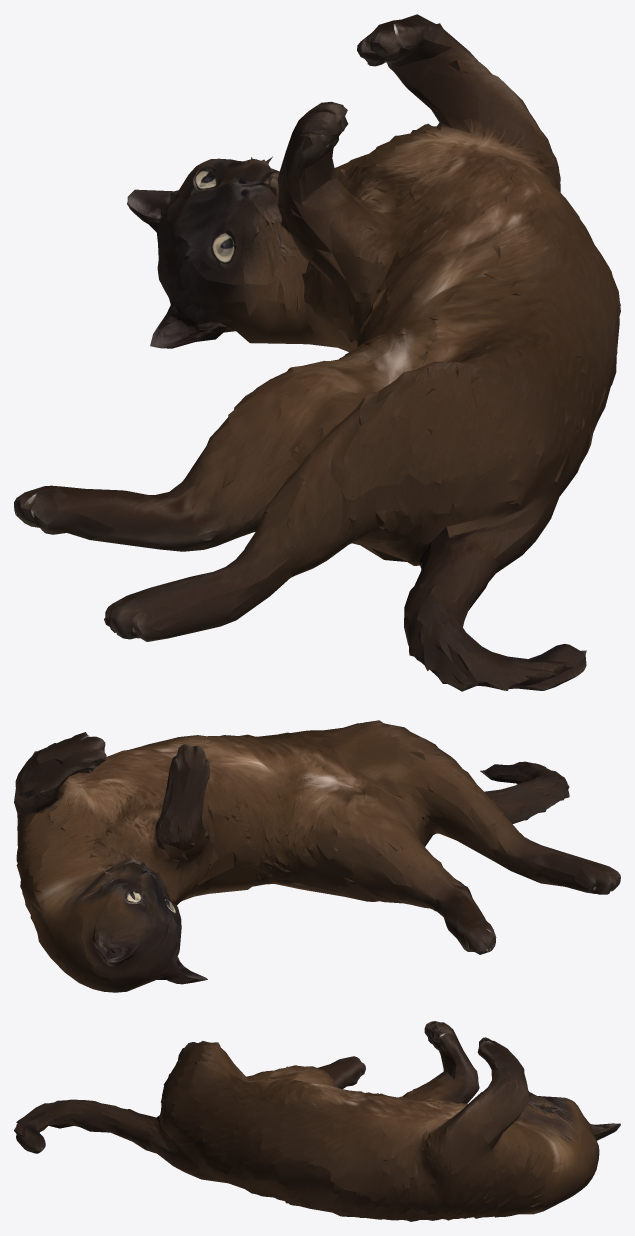
The model's file is Meshy_AI_cat_remesh_8k_1026224918_texture.glb.
3 views of the same model, one above another, from view 1: azimuth 30°, elevation 25°; view 2: azimuth 150°, elevation 25°; view 3: azimuth 270°, elevation 25° (orthographic). The views are drawn at different scales.
Parts seen in each view (by area): view 1: output_unwrapped; view 2: output_unwrapped; view 3: output_unwrapped.
Boxes of the visible parts, <box> form: output_unwrapped: <box>14,14,620,691</box>; output_unwrapped: <box>14,720,620,992</box>; output_unwrapped: <box>14,1021,620,1221</box>.
Bounding box in the file's own units: 1.36 × 0.5798 × 1.87.
1 material, 1 textured.
